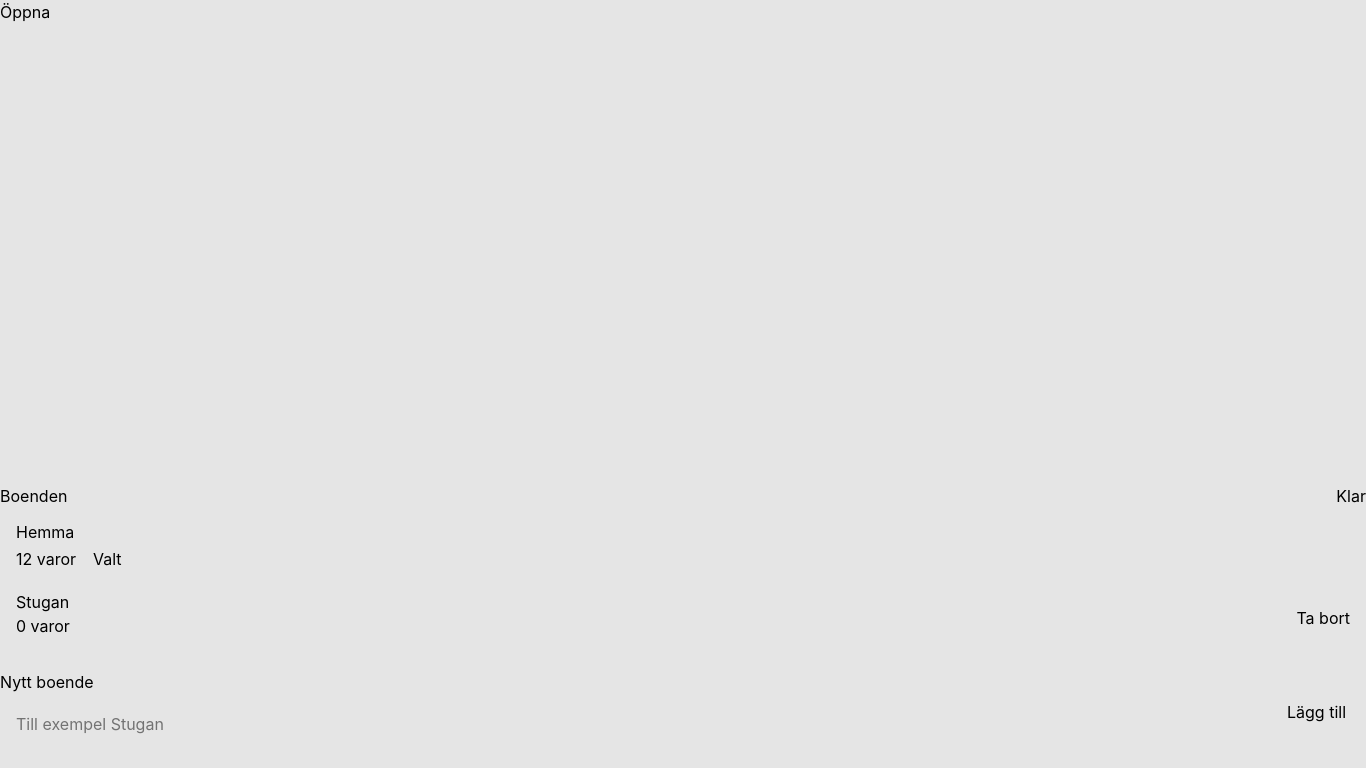
SitesSheet › renames a place from its row, one at a time, and confirms
Click the button with aria-label "Byt namn på Stugan" at (43, 602), box [16,590,69,614]
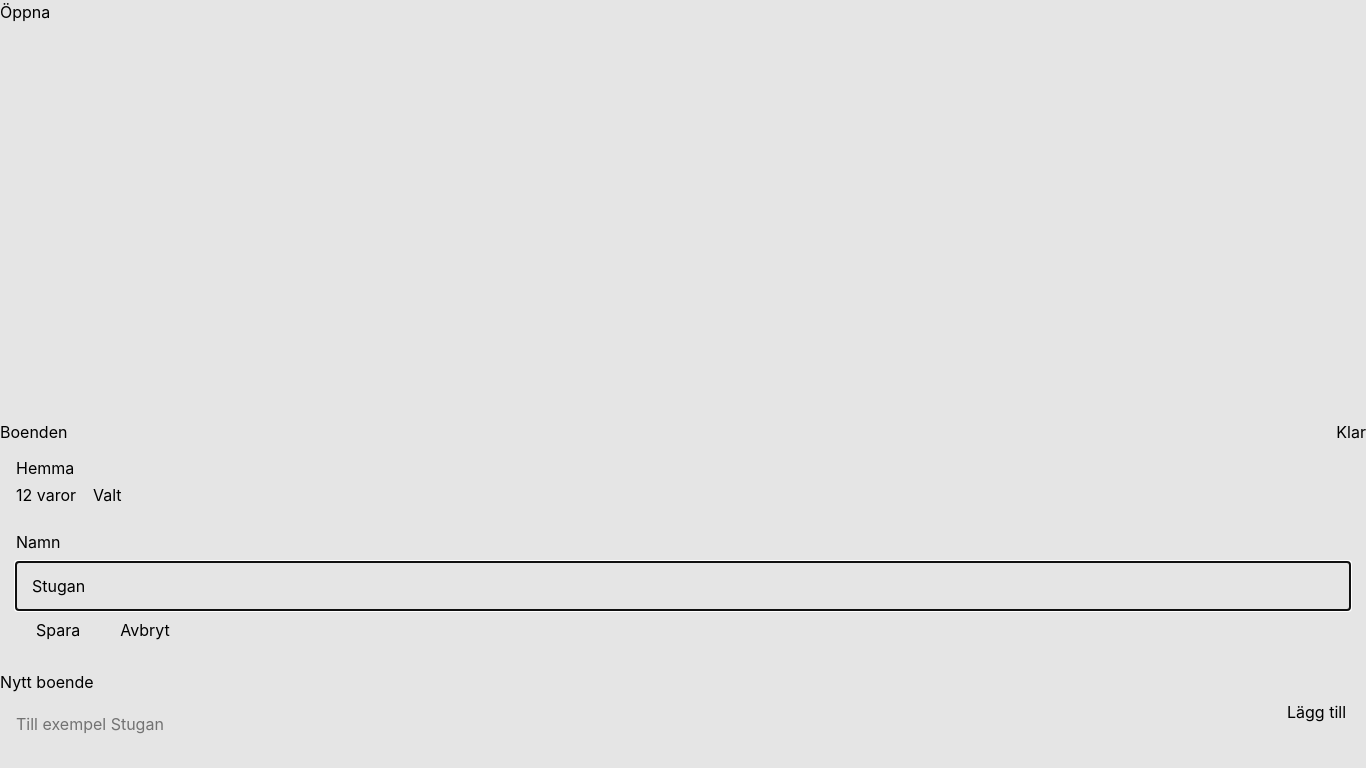
expect the field labelled "Namn" holds "Stugan": met
Replace the text in the field labelled "Namn" with "Vinterstugan" at (683, 586), box [16,562,1350,610]
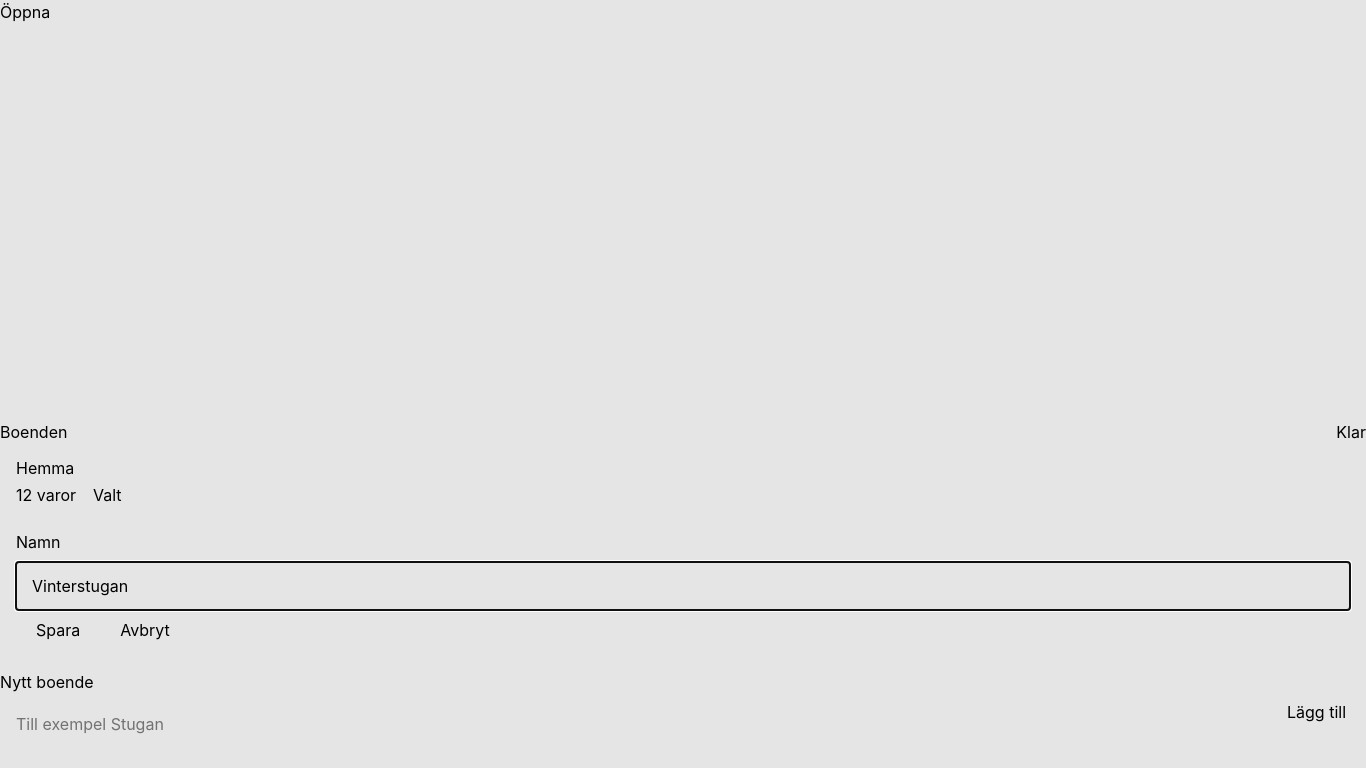
Click the button "Spara" at (58, 630), box [16,618,100,642]
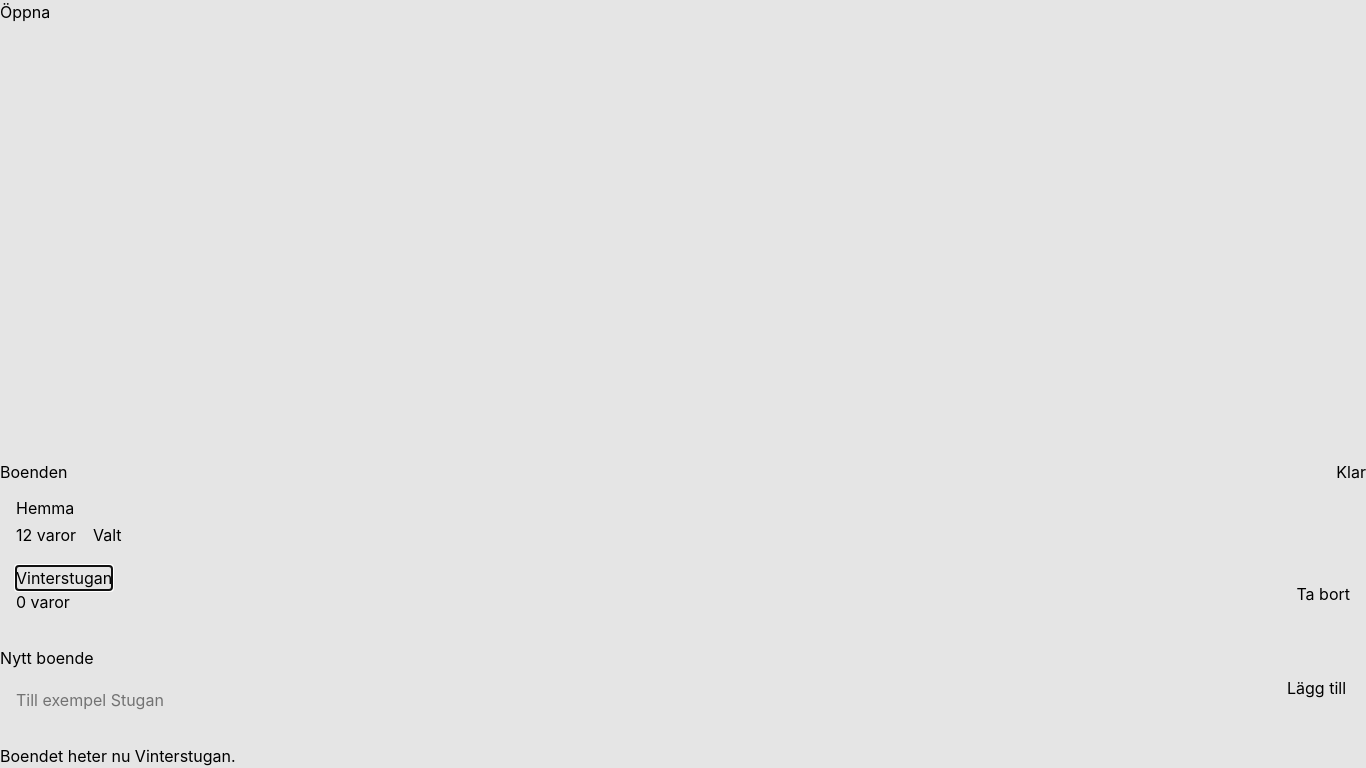
expect the message with test id "sites-status" reads "Boendet heter nu Vinterstugan.": met, box [0,746,236,766]
expect the label labelled "Namn" is gone: met
expect the button with aria-label "Byt namn på Vinterstugan" is shown: met, box [16,566,112,590]
